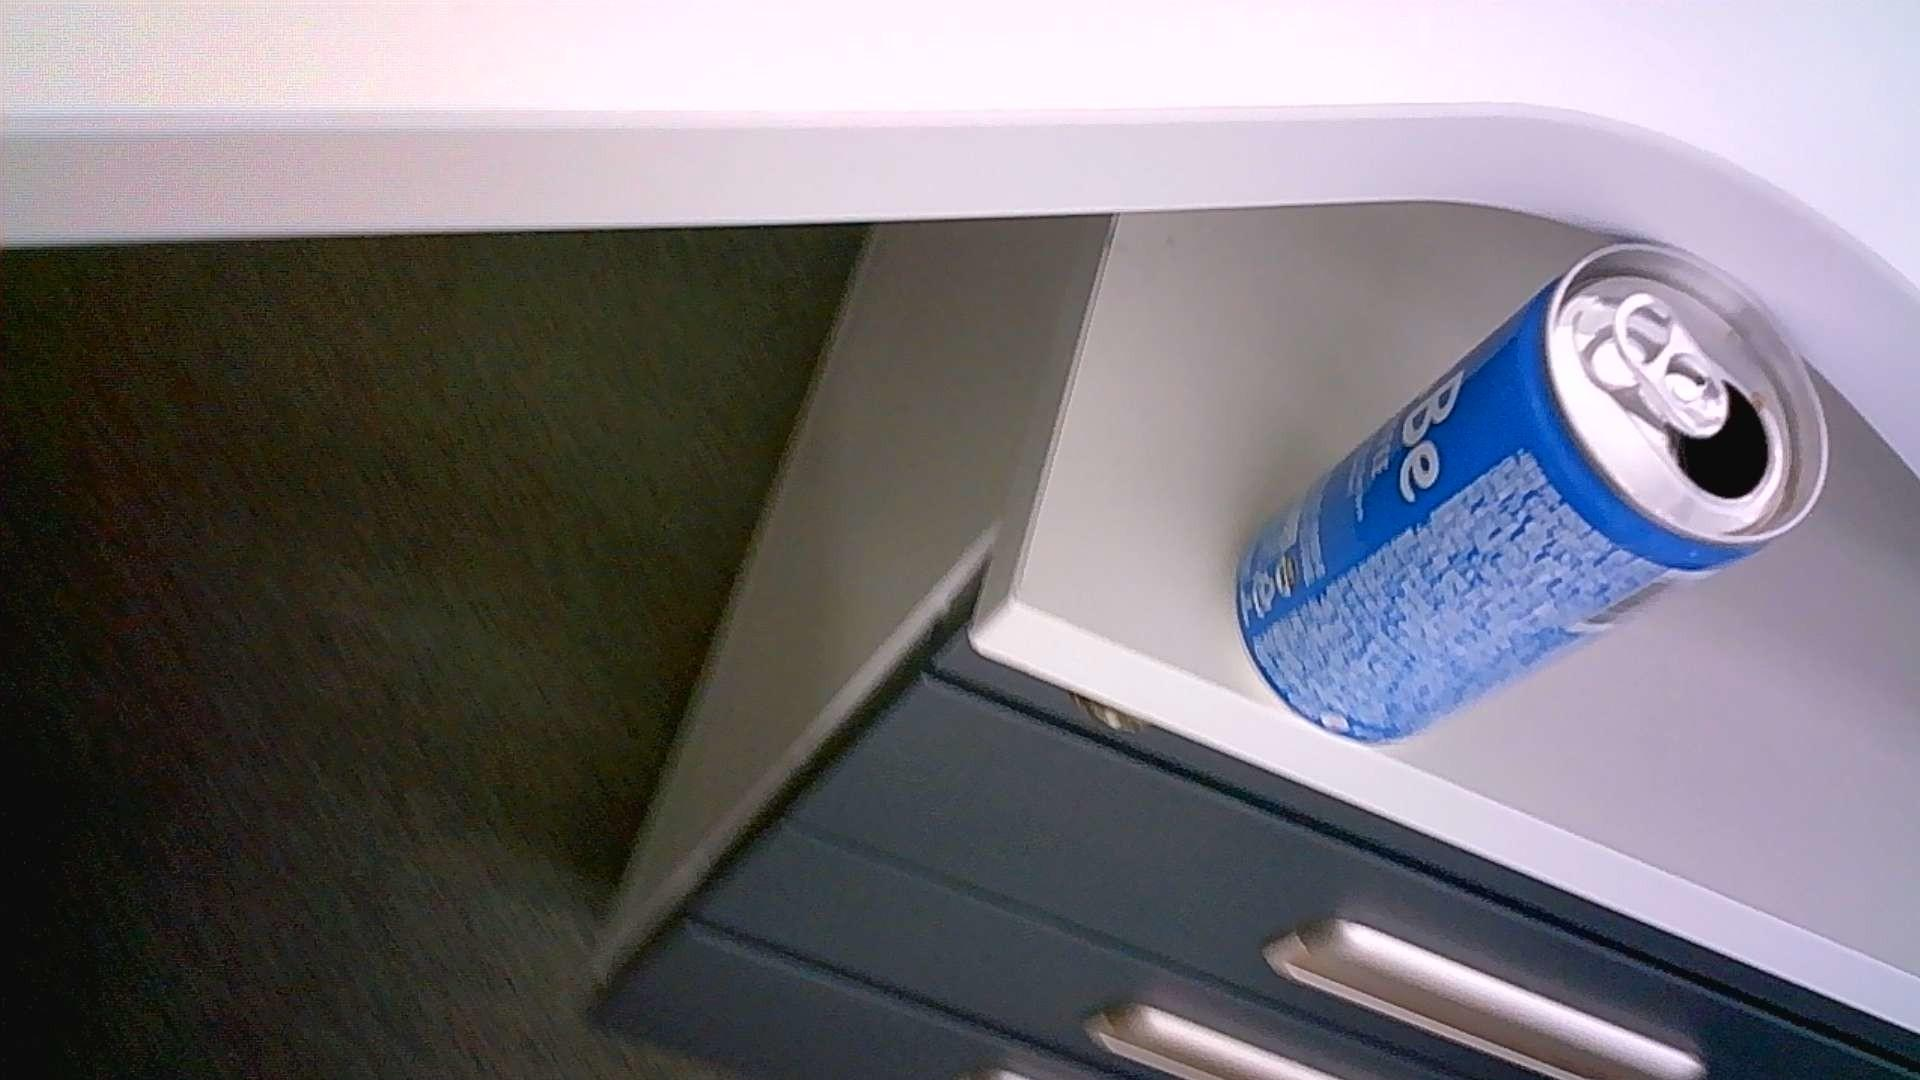letsbe: (1238, 243, 1828, 746)
